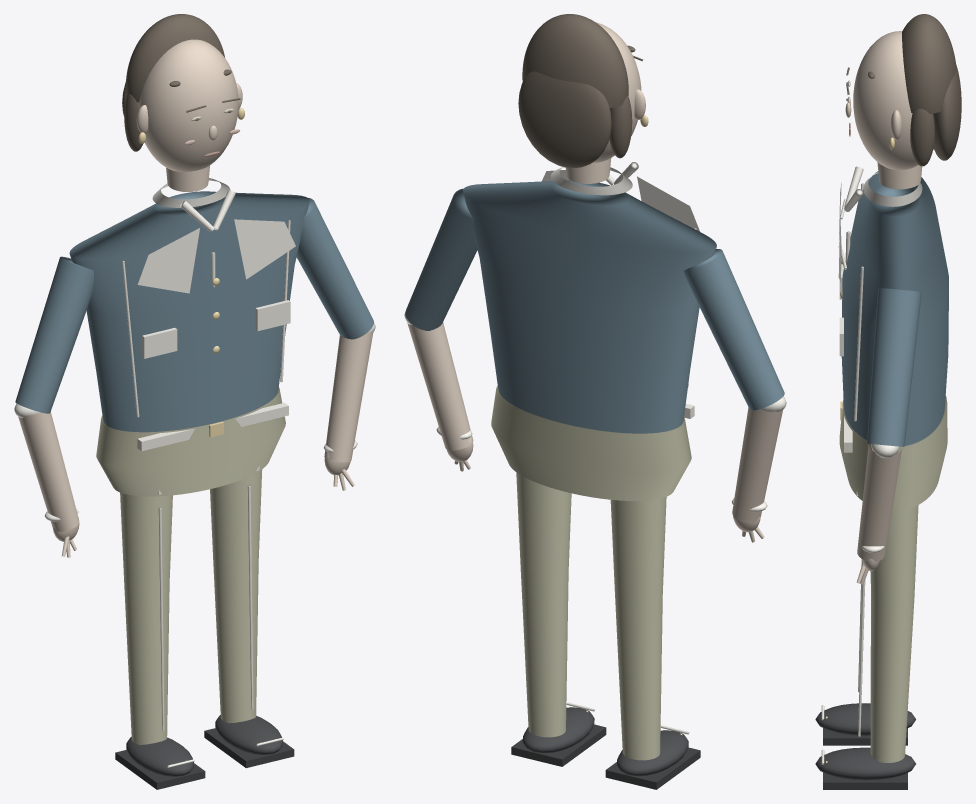
File: male-tailored.glb
The picture shows the model from 3 angles, left to right: view 1: azimuth 30°, elevation 25°; view 2: azimuth 150°, elevation 25°; view 3: azimuth 270°, elevation 25°; orthographic projection. The views are drawn at different scales.
Visible parts, largest first — view 1: StyleFit Parametric Digital Human; view 2: StyleFit Parametric Digital Human; view 3: StyleFit Parametric Digital Human.
Boxes of the visible parts, bbox=[...] form: StyleFit Parametric Digital Human: bbox=[14, 14, 375, 789]; StyleFit Parametric Digital Human: bbox=[404, 14, 786, 789]; StyleFit Parametric Digital Human: bbox=[815, 14, 961, 789].
Size of the model in its own units: 1.18 by 2.26 by 0.4058.
